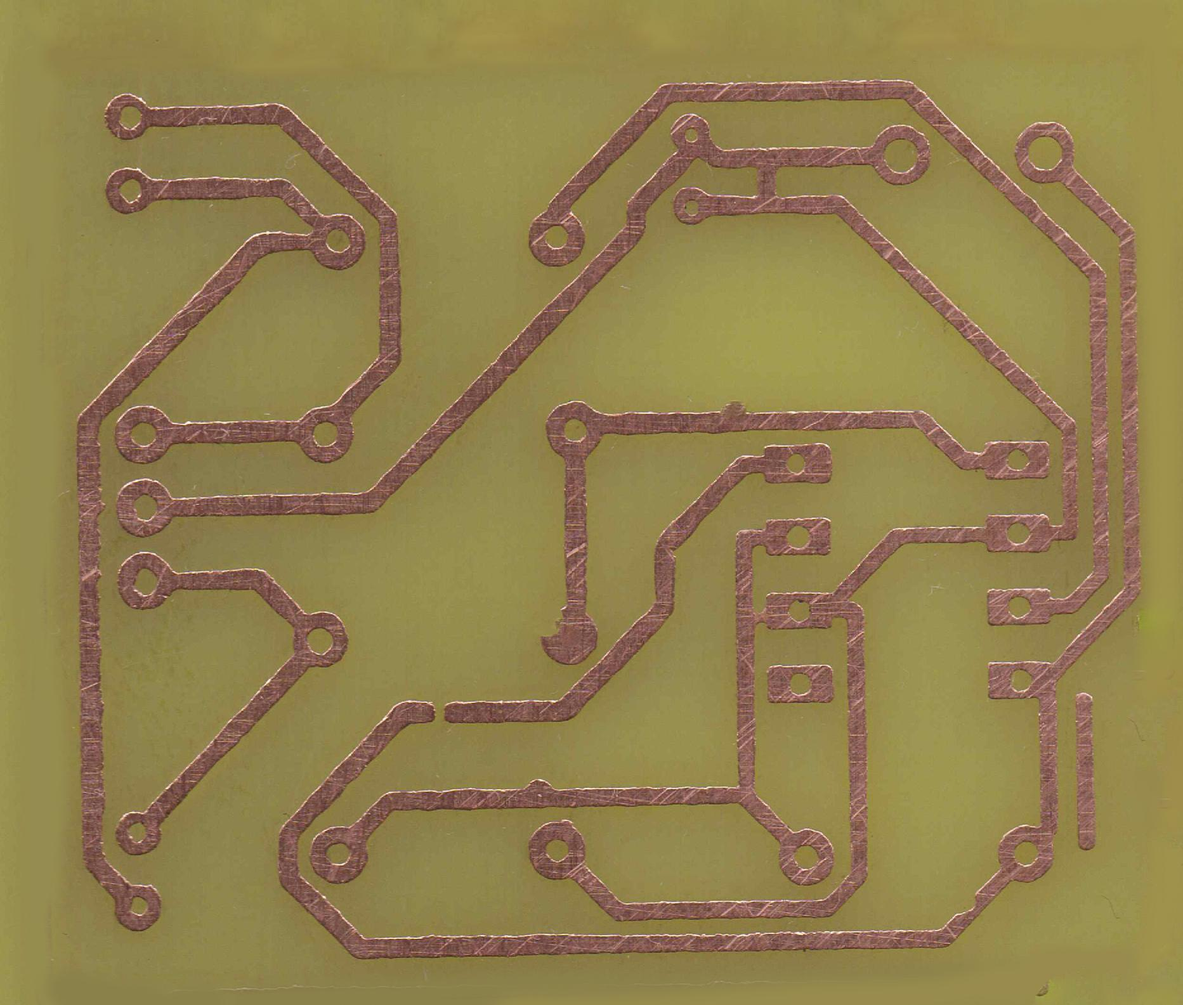missing_hole: (537, 606, 599, 668)
mouse_bite: (953, 888, 983, 922)
open_circuit: (422, 696, 458, 732)
short: (749, 148, 788, 216)
spur: (521, 770, 558, 815), (714, 397, 754, 436), (77, 495, 108, 523)
spurious_copper: (1071, 683, 1099, 854)
